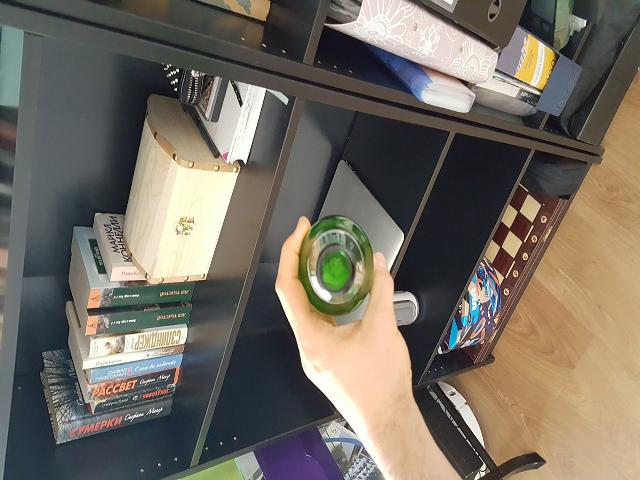beer: (299, 221, 375, 313)
